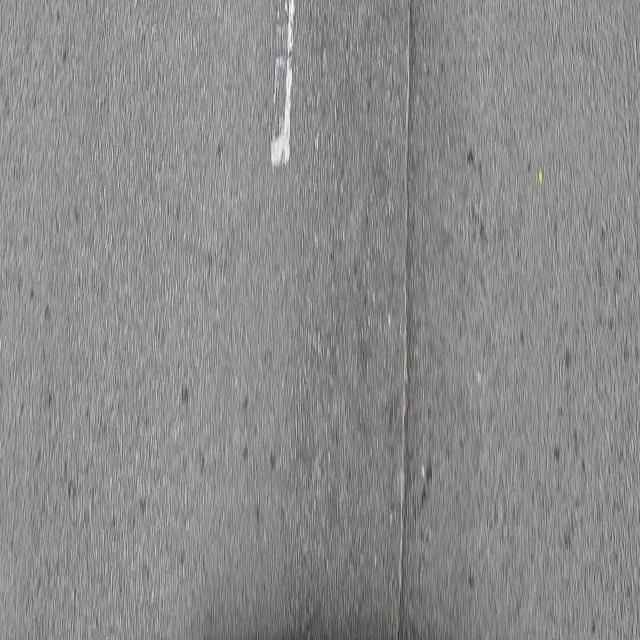Retak-Memanjang: (392, 0, 419, 622)
